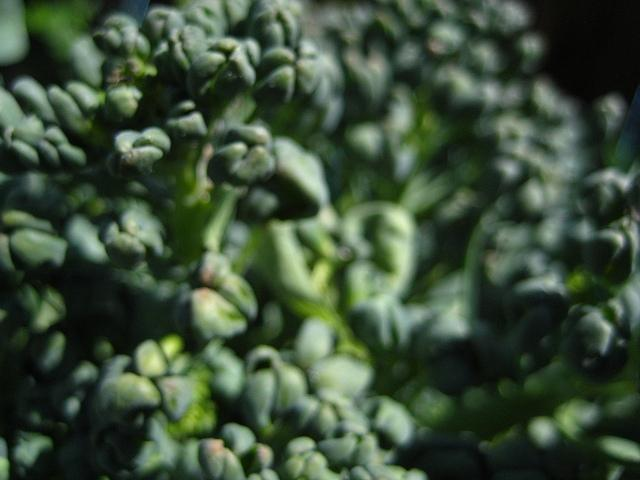broccoli: (0, 0, 334, 347), (329, 61, 637, 398)
